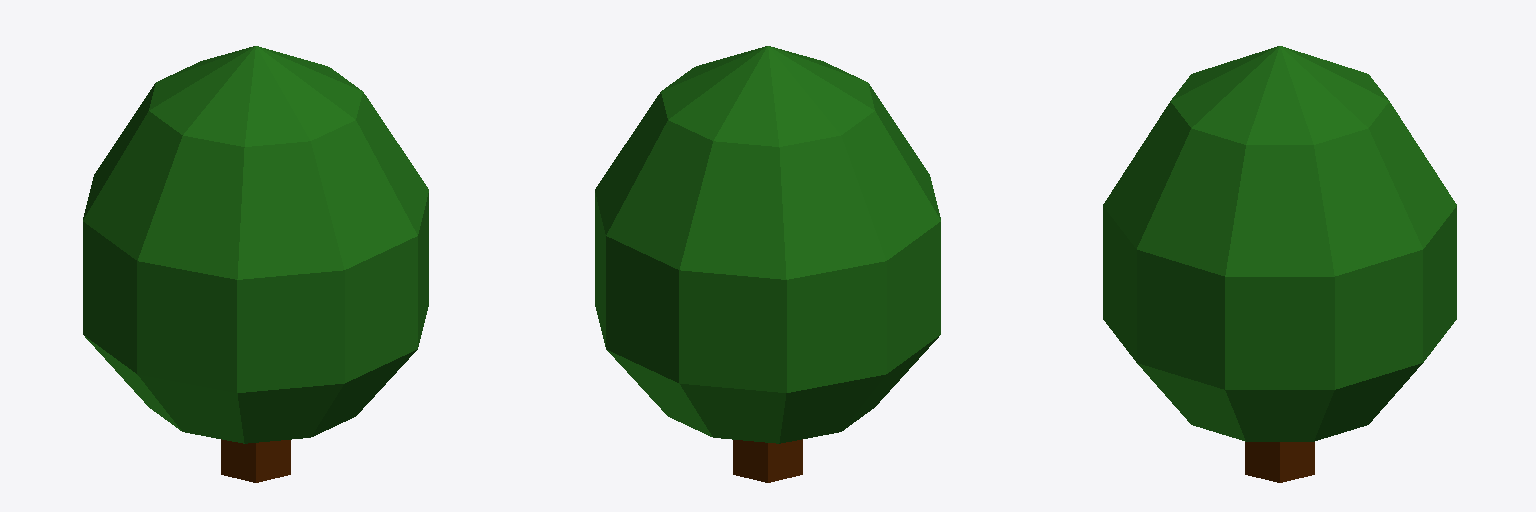
File: tree.obj
3 renders of one model, left to right at view 1: azimuth 30°, elevation 25°; view 2: azimuth 150°, elevation 25°; view 3: azimuth 270°, elevation 25°, orthographic.
Parts seen in each view (by area): view 1: tree, foot; view 2: tree, foot; view 3: tree, foot.
Boxes of the visible parts, <box> form: tree: <box>83,46,428,443</box>; foot: <box>221,439,290,482</box>; tree: <box>595,46,940,443</box>; foot: <box>733,439,802,482</box>; tree: <box>1103,46,1456,441</box>; foot: <box>1245,442,1314,482</box>.
Bounding box in the file's own units: 0.8745 × 1.2 × 0.9196.